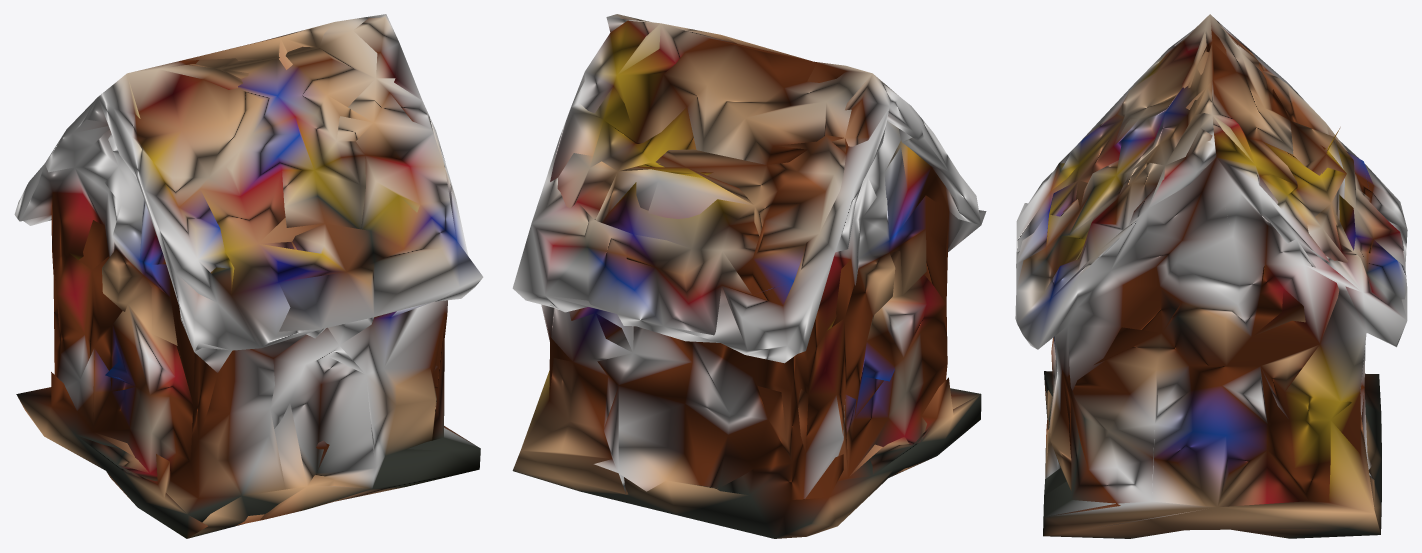
The model's file is gen3d-gingerbread-house-lod0.glb.
3 views of the same model, side by side, from view 1: azimuth 30°, elevation 25°; view 2: azimuth 150°, elevation 25°; view 3: azimuth 270°, elevation 25° (orthographic). The views are drawn at different scales.
Parts seen in each view (by area): view 1: part_0; view 2: part_0; view 3: part_0.
Part boxes in pixels (x1,y1,x2,y2): part_0: (14,14,483,538); part_0: (512,14,986,538); part_0: (1015,14,1407,538).
Size of the model in its own units: 0.7775 by 0.9969 by 0.8976.
